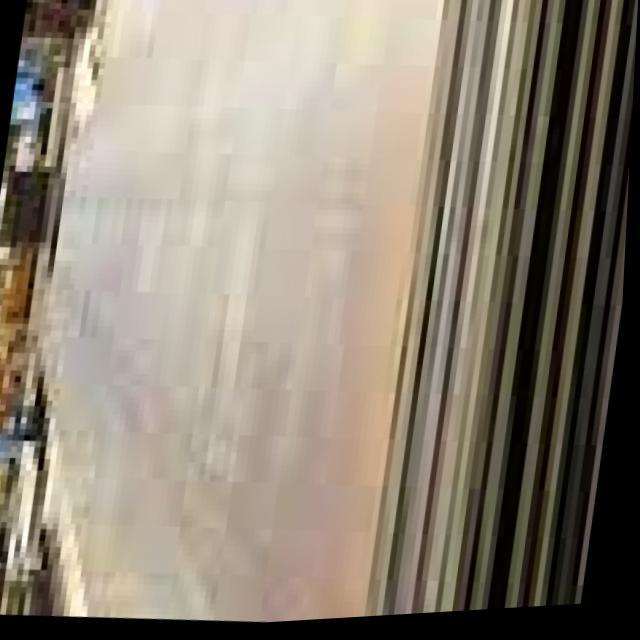metal-plates: (47, 1, 640, 627)
